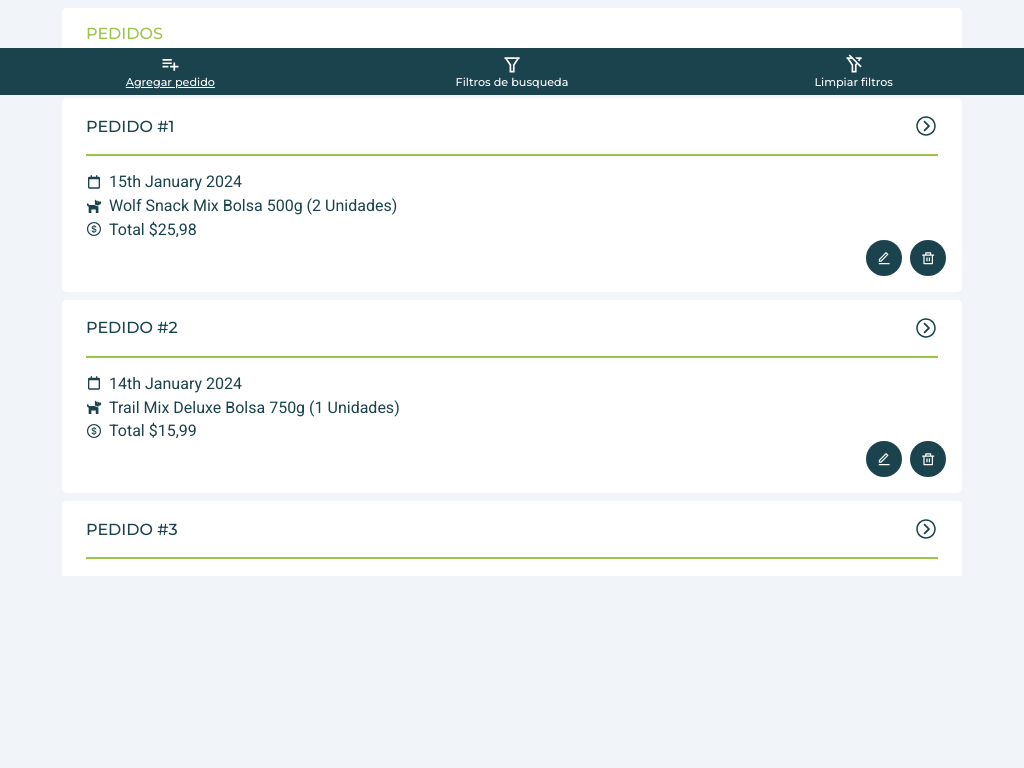
Scenario: OrdersPage › opens filter modal when filters button is clicked
The width and height of the screenshot is (1024, 768).
Click the button "Filtros de busqueda" at x=512, y=71, box x1=342 y1=49 x2=682 y2=94
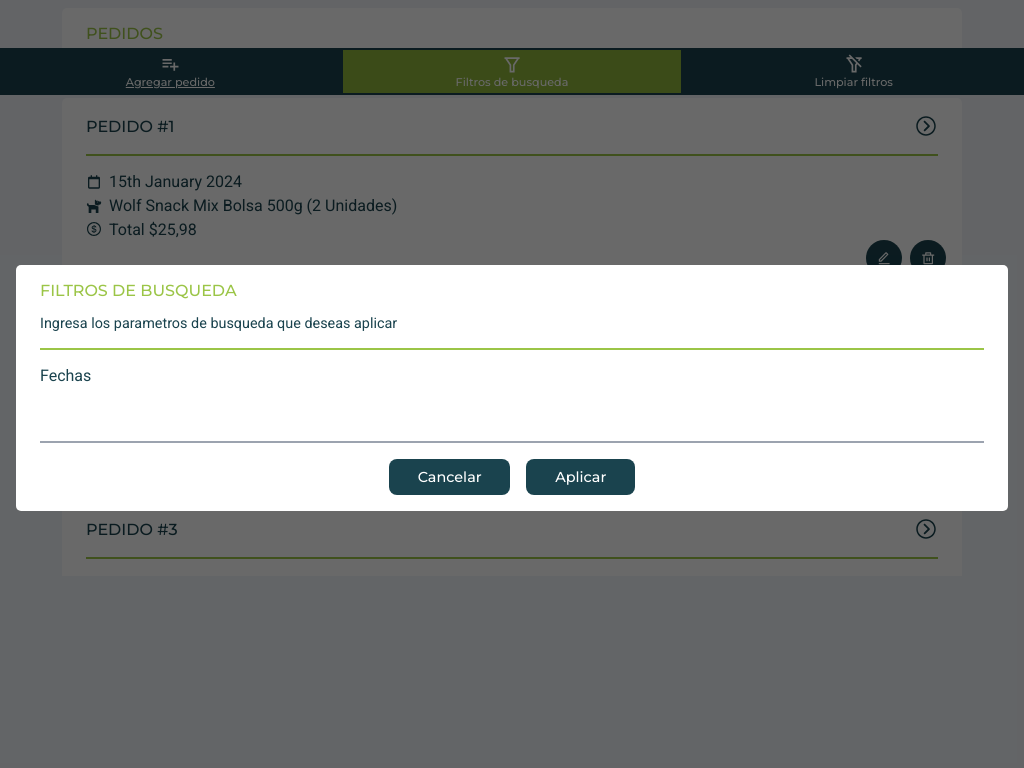
Now the dialog is shown
Now the heading "Filtros de busqueda" is shown, box x1=40 y1=281 x2=237 y2=300
